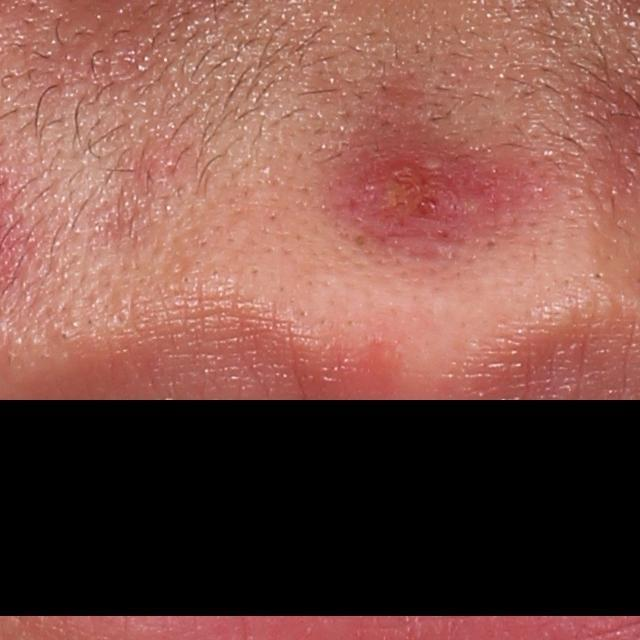pustule: (355, 146, 488, 233)
